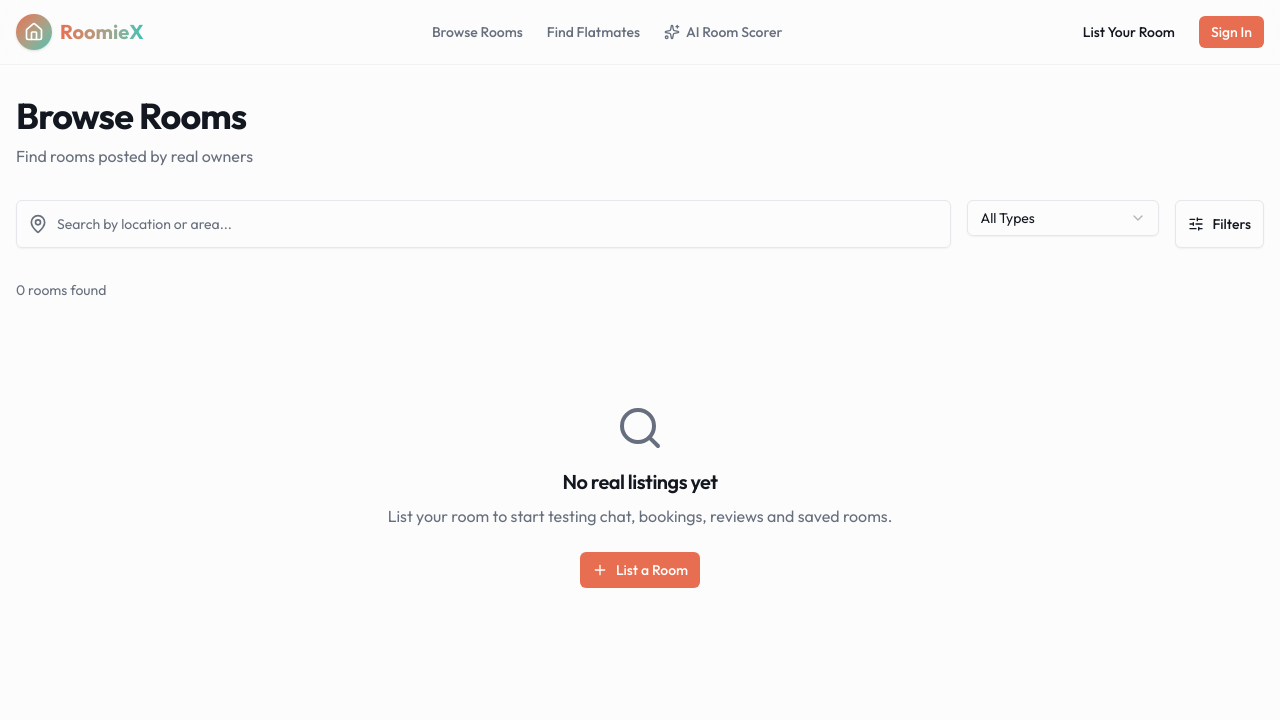
Test: Browse Rooms › should clear all filters
This screenshot has width=1280, height=720.
Type "Test Location" into the field with placeholder "Search by location or area...". click: (484, 224)
box: [16,200,951,248]
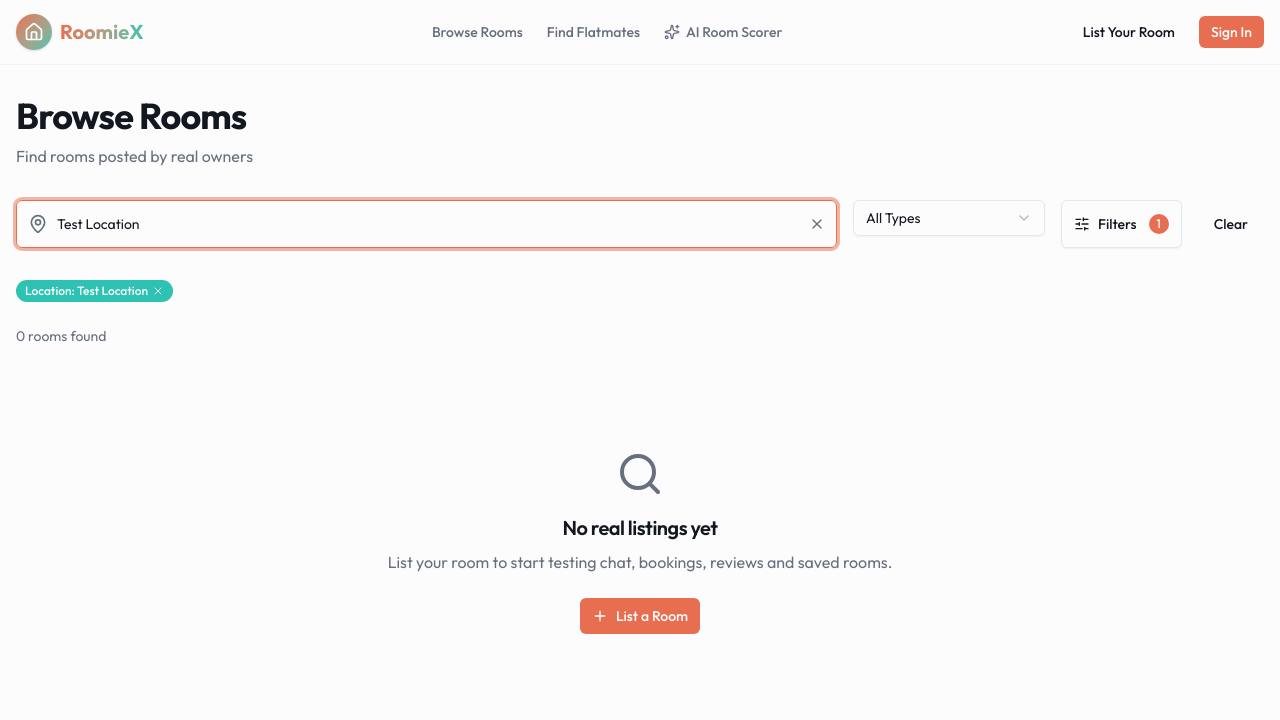
Check: the text "Location: Test Location" is shown, box [16,280,173,302]
Click the button "Clear". click: (1231, 224)
box: [1198,200,1264,248]
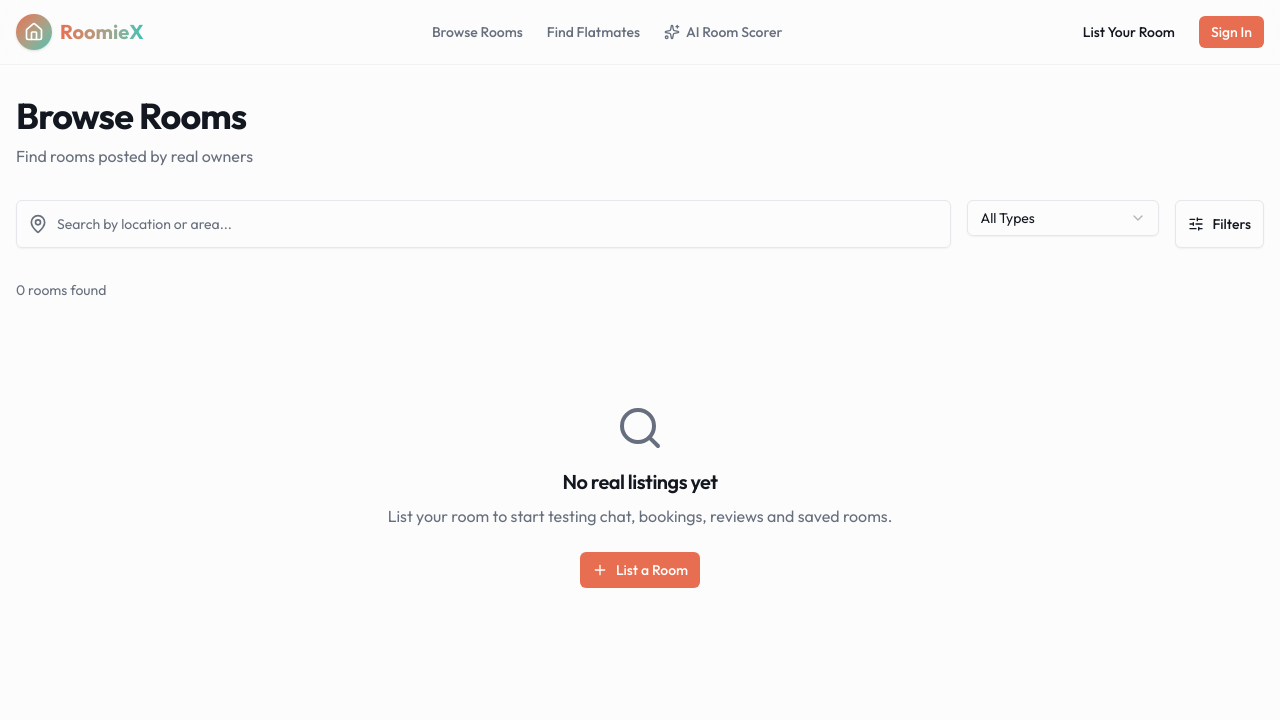
Check: the text "Location: Test Location" is gone
